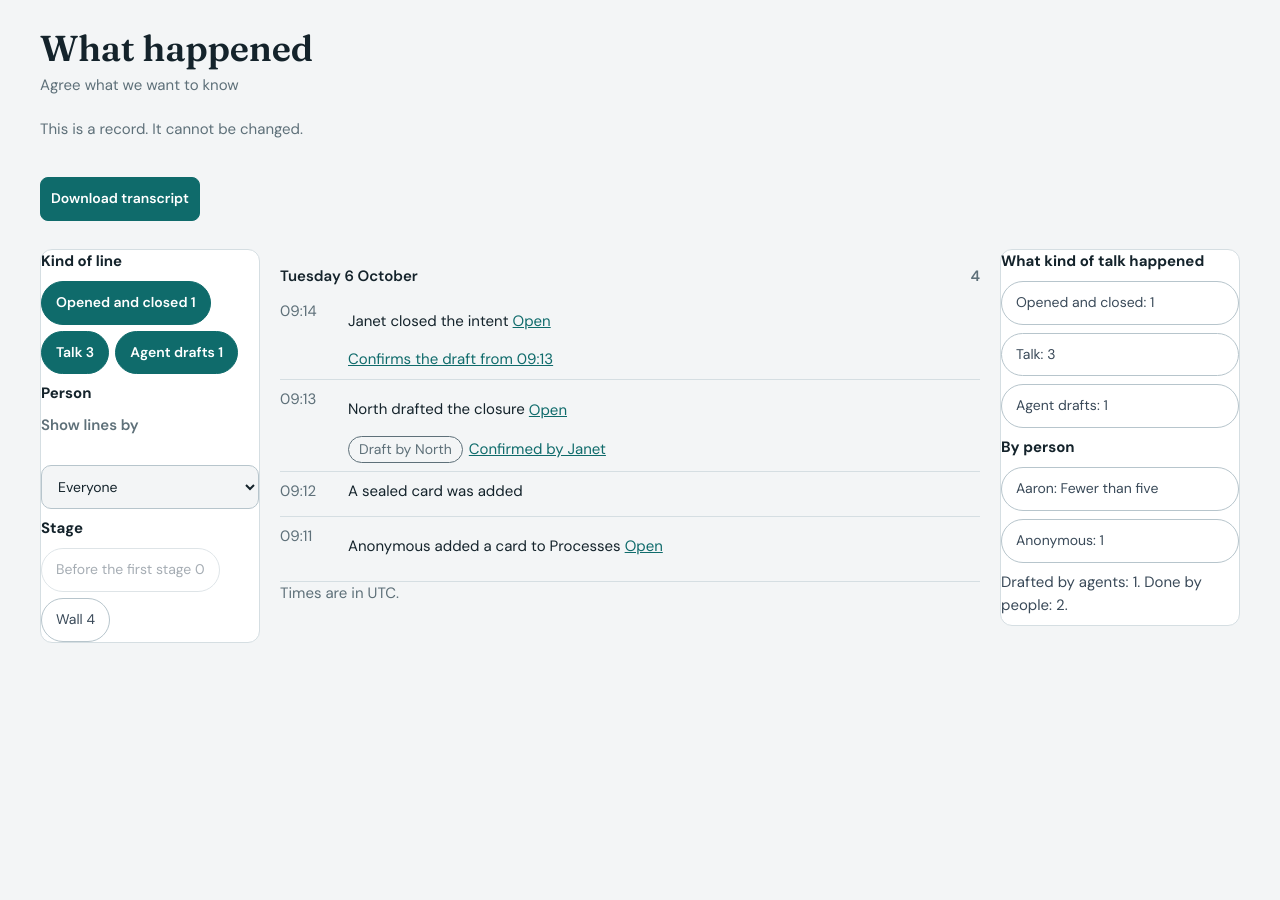
Test case: What happened › offers the transcript once the intent is closed
Click the button "Download transcript" at (120, 199), box [40,177,200,221]
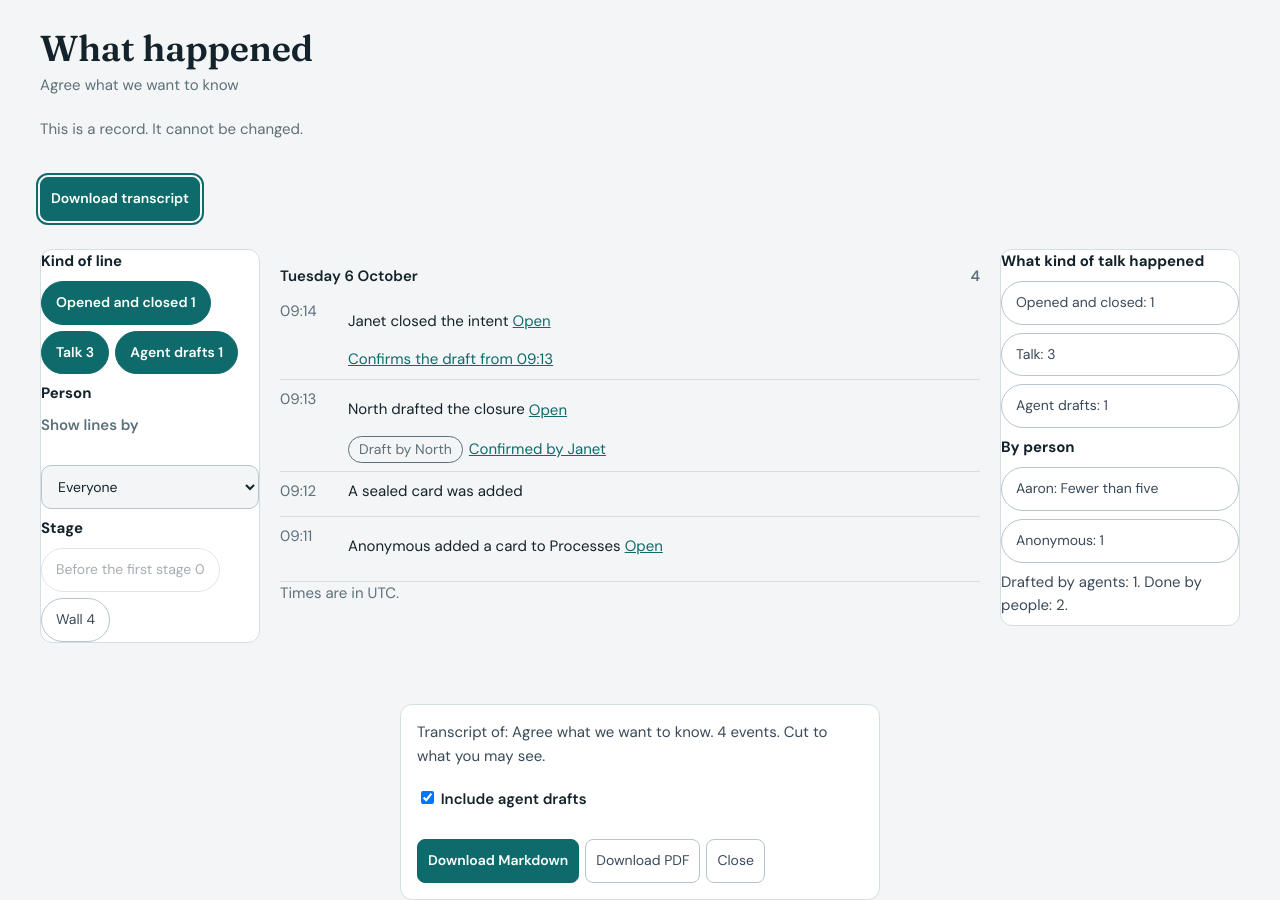
Now the button "Download Markdown" is shown, box [417,839,579,883]
Now the text "Transcript of: Agree what we want to know" is shown, box [417,722,828,766]
